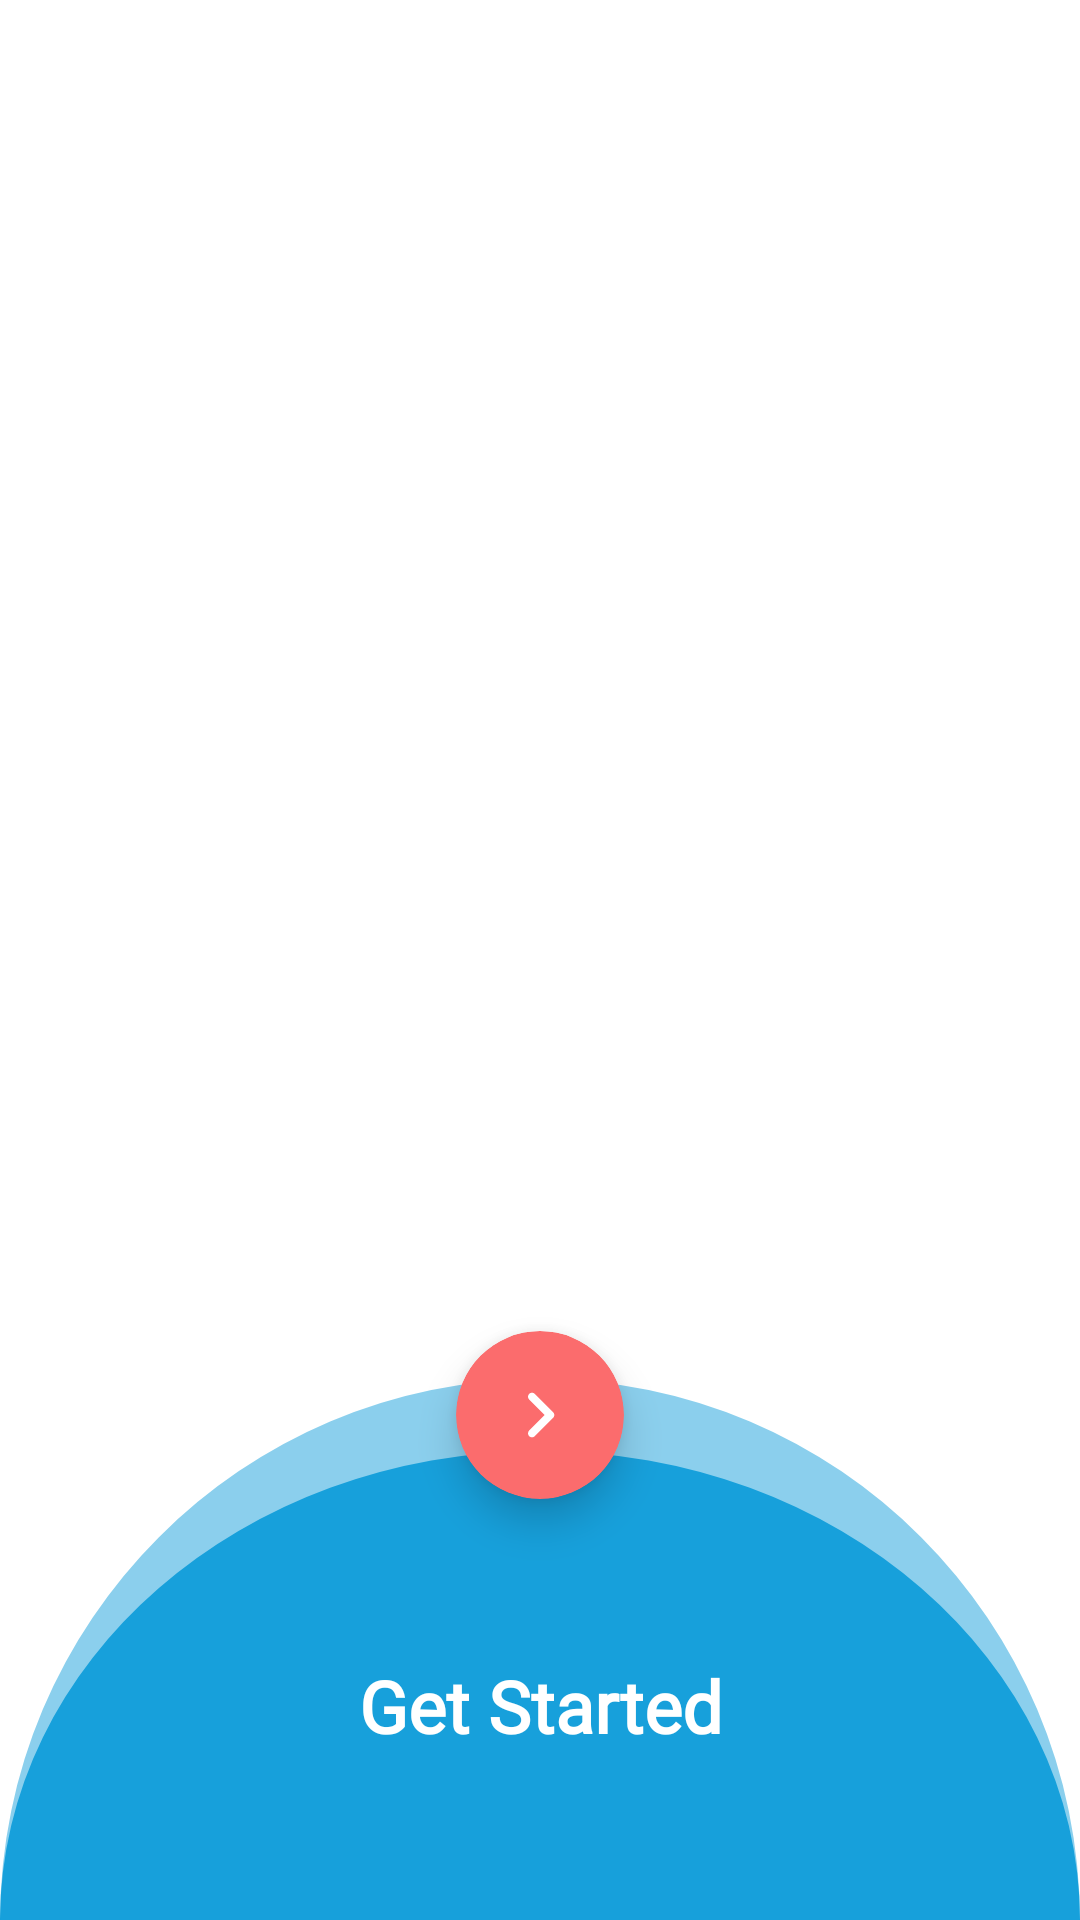

Where icons sit on this 1080px x 1920px app screen, as (x1, y1, x2, y2):
next: (528, 1392, 555, 1438)
